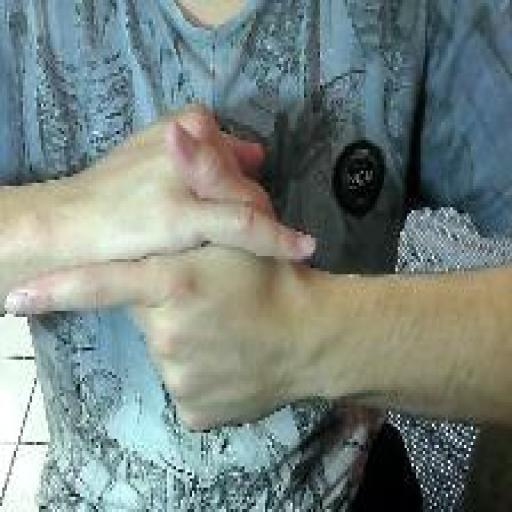U -hare-: (2, 99, 318, 434)
